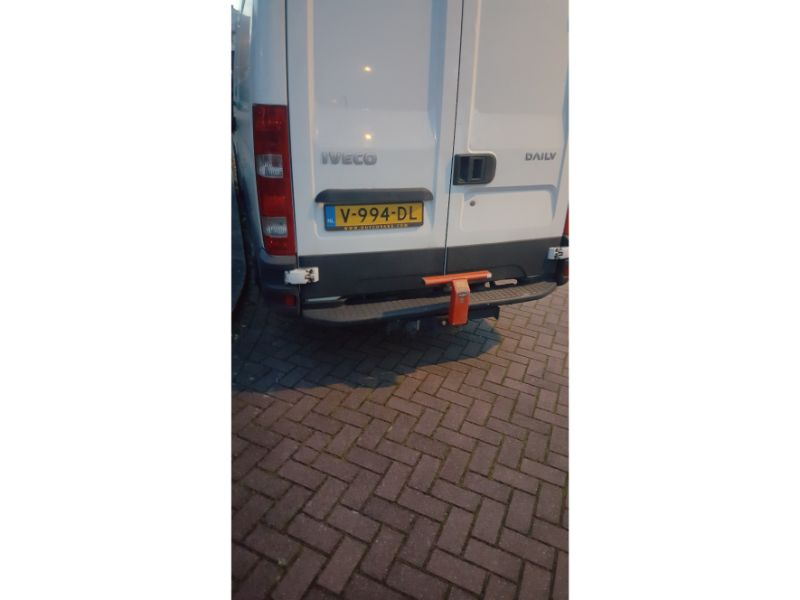kenteken: (322, 199, 423, 231)
